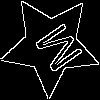M: (25, 20, 84, 81)
